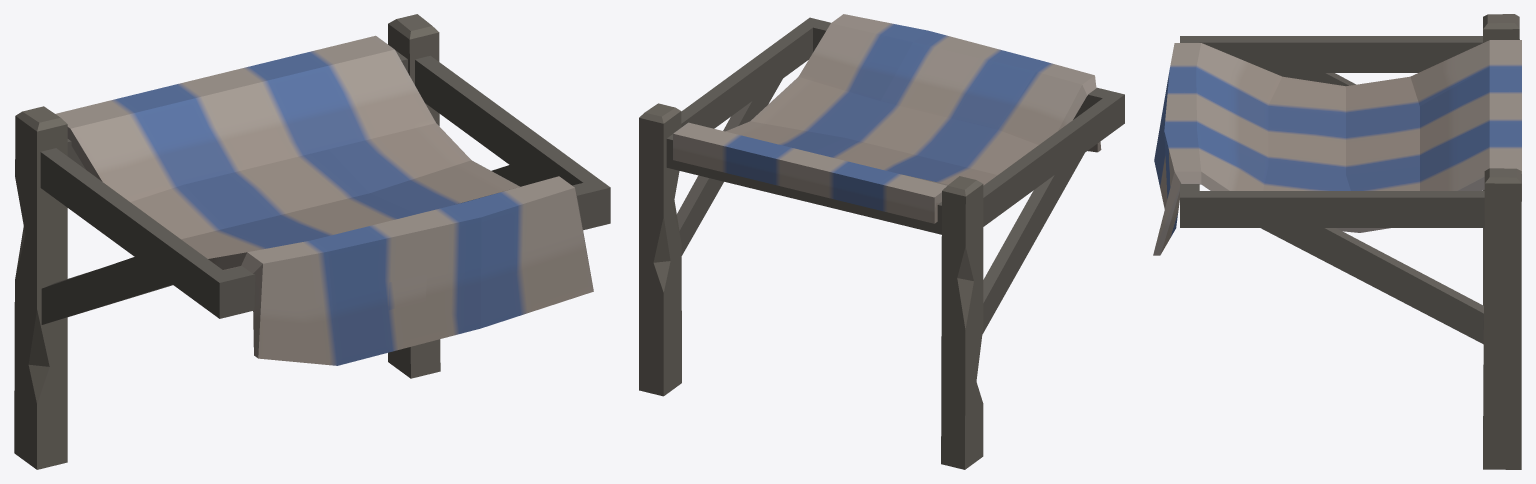
The model's file is SM_Bld_Village_ClothCover_Small_03.fbx.
3 views of the same model, side by side, from view 1: azimuth 30°, elevation 25°; view 2: azimuth 150°, elevation 25°; view 3: azimuth 270°, elevation 25° (orthographic). The views are drawn at different scales.
Parts seen in each view (by area): view 1: SM_Bld_Village_ClothCover_Small_03; view 2: SM_Bld_Village_ClothCover_Small_03; view 3: SM_Bld_Village_ClothCover_Small_03.
Part boxes in pixels (x1=…): SM_Bld_Village_ClothCover_Small_03: x1=14, y1=14, x2=610, y2=469; SM_Bld_Village_ClothCover_Small_03: x1=639, y1=14, x2=1124, y2=469; SM_Bld_Village_ClothCover_Small_03: x1=1153, y1=14, x2=1521, y2=469.
Size of the model in its own units: 201 by 163 by 188.
